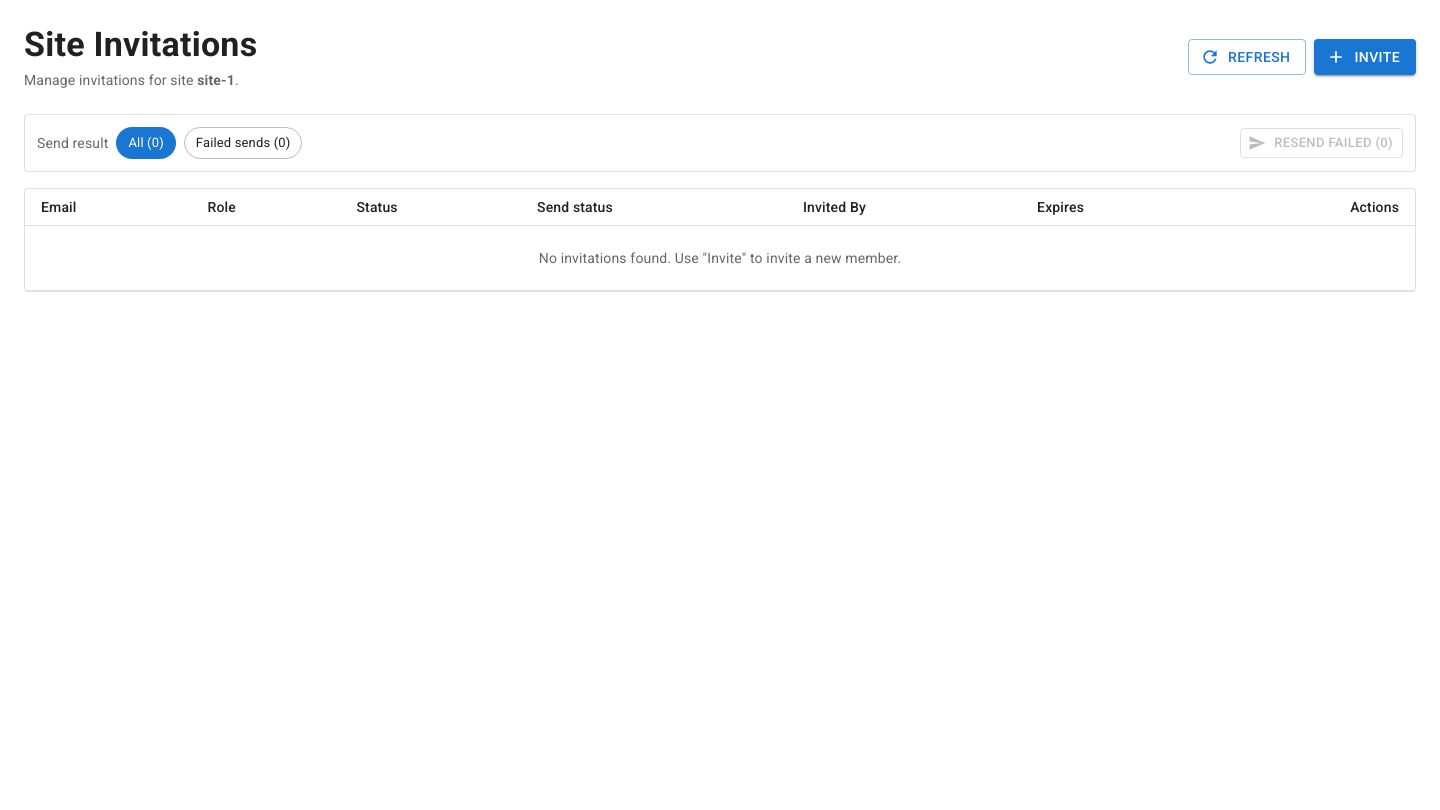
Test: SiteInvitationsPage invite create flow › does not report success when the bulk response records an email send failure (single-row case)
The image size is (1440, 810).
Check: the text "No invitations found. Use \"Invite\" to invite a new member." is shown, box [539,250,901,266]
Click the button "Invite": coordinates (1365, 57) [1314,39,1416,75]
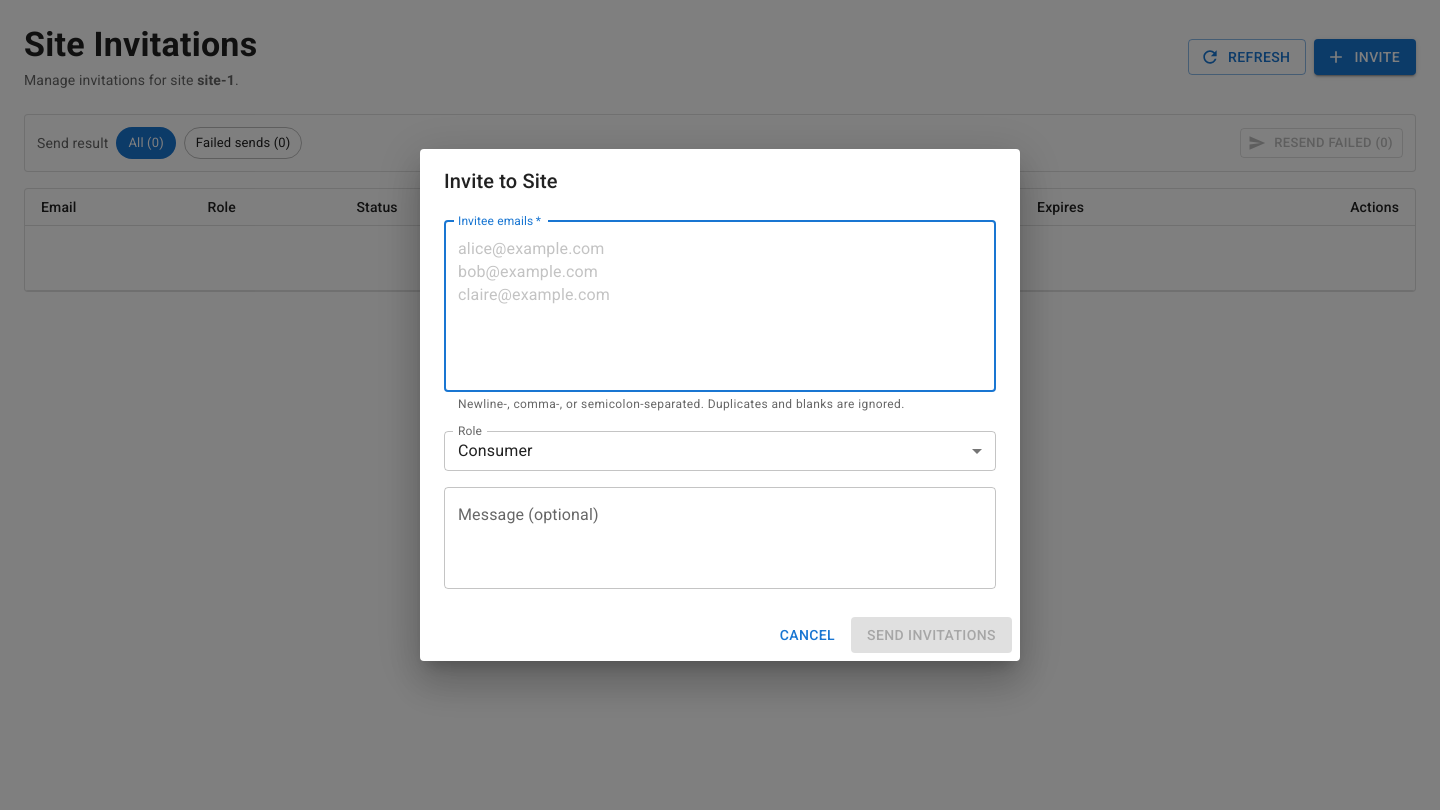
In the text box with test id "bulk-invitation-textarea": coordinates (720, 306) [458,237,982,375], type "created-failed@example.com"
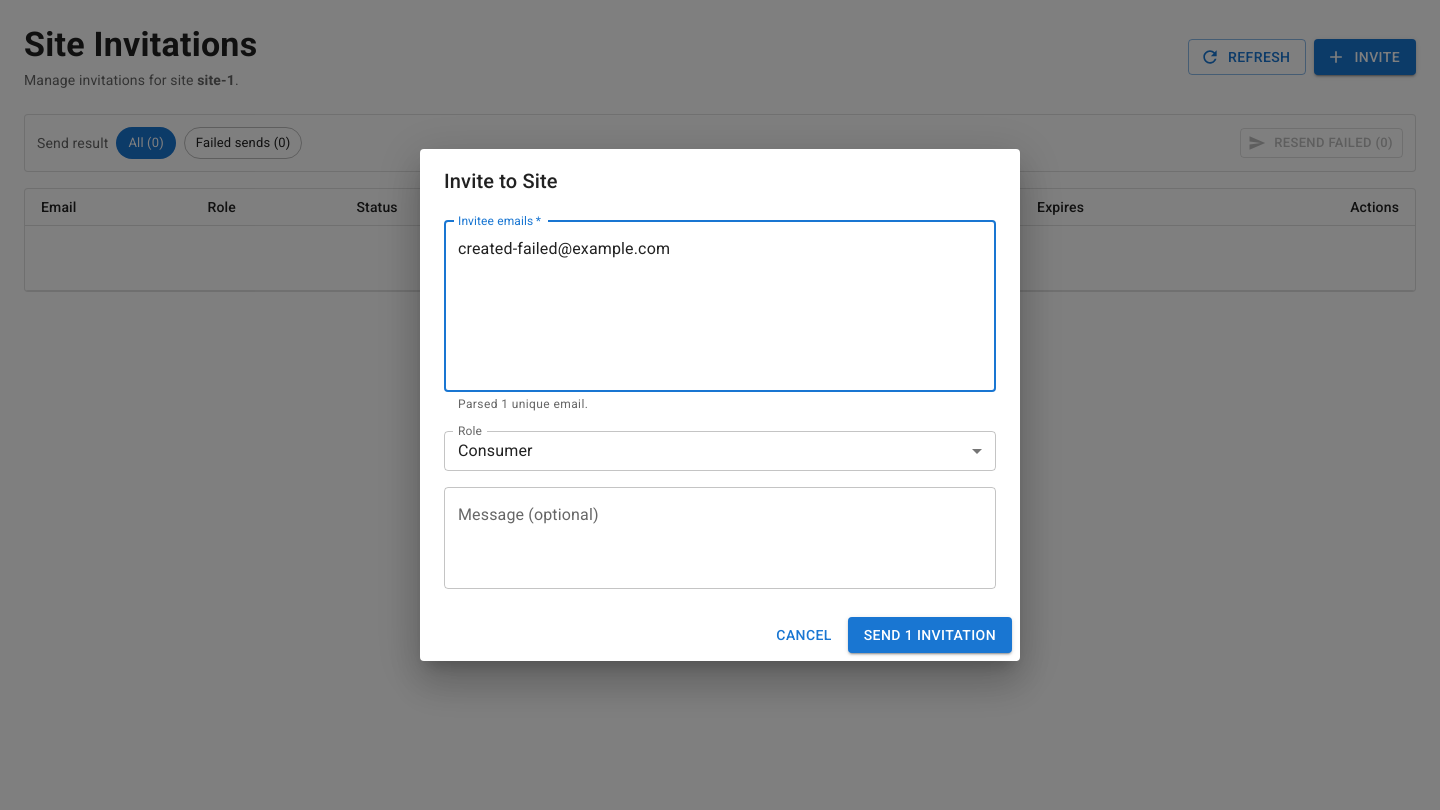
Click the button with test id "bulk-invitation-submit": coordinates (930, 635) [848,617,1012,653]
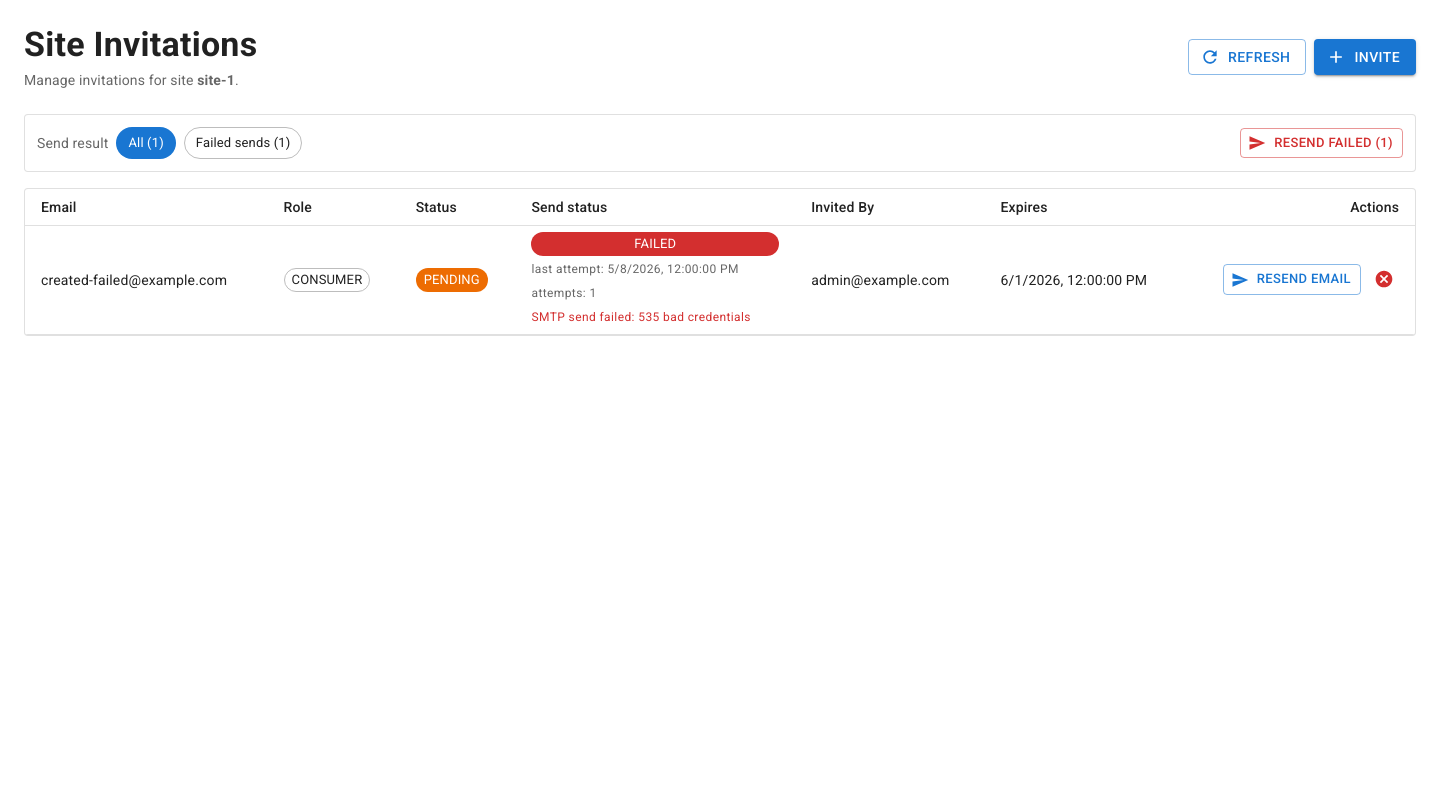
Check: the text "created-failed@example.com" is shown, box [41,270,252,290]
